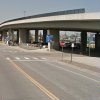crosswalk: (6, 56, 46, 60)
